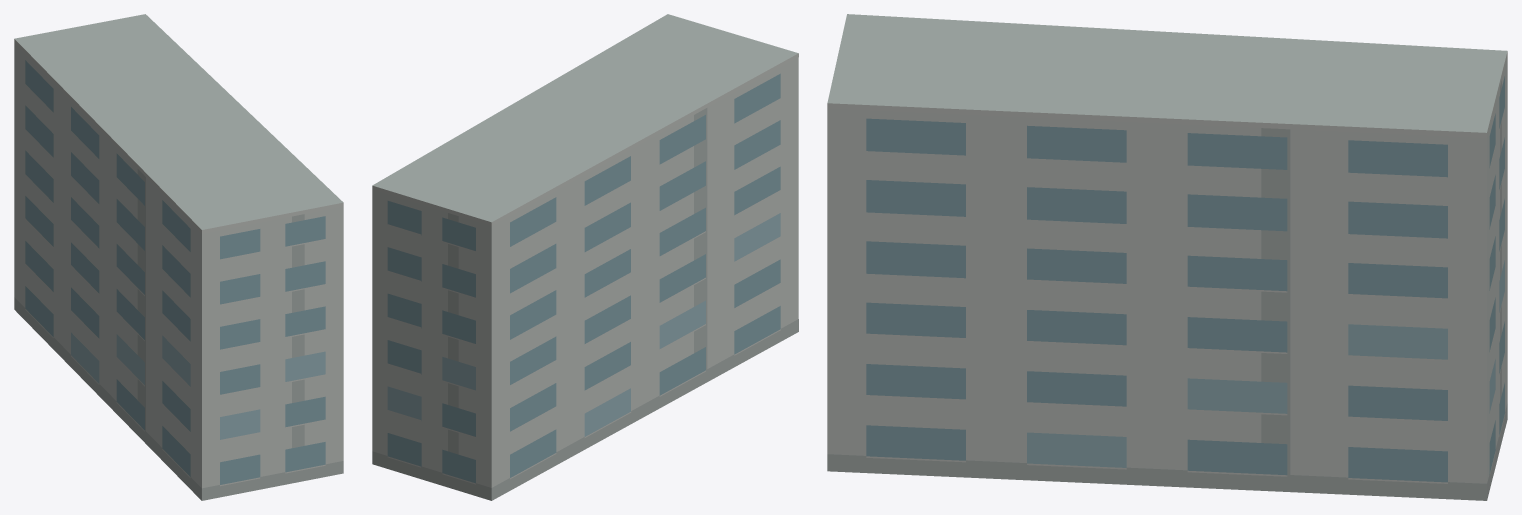
File: survey-upis-32800158.glb
The picture shows the model from 3 angles, left to right: view 1: azimuth 30°, elevation 25°; view 2: azimuth 150°, elevation 25°; view 3: azimuth 270°, elevation 25°; orthographic projection. The views are drawn at different scales.
Parts seen in each view (by area): view 1: survey-upis-32800158.tmp; view 2: survey-upis-32800158.tmp; view 3: survey-upis-32800158.tmp.
Part boxes in pixels (x1,y1,x2,y2): survey-upis-32800158.tmp: [14, 14, 343, 500]; survey-upis-32800158.tmp: [372, 14, 798, 500]; survey-upis-32800158.tmp: [827, 14, 1507, 500].
Bounding box in the file's own units: 11.64 × 16.8 × 28.15.
